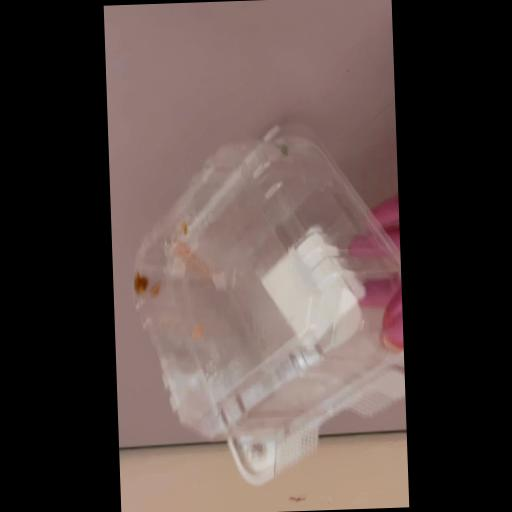small_plastic_container: (125, 116, 408, 488)
